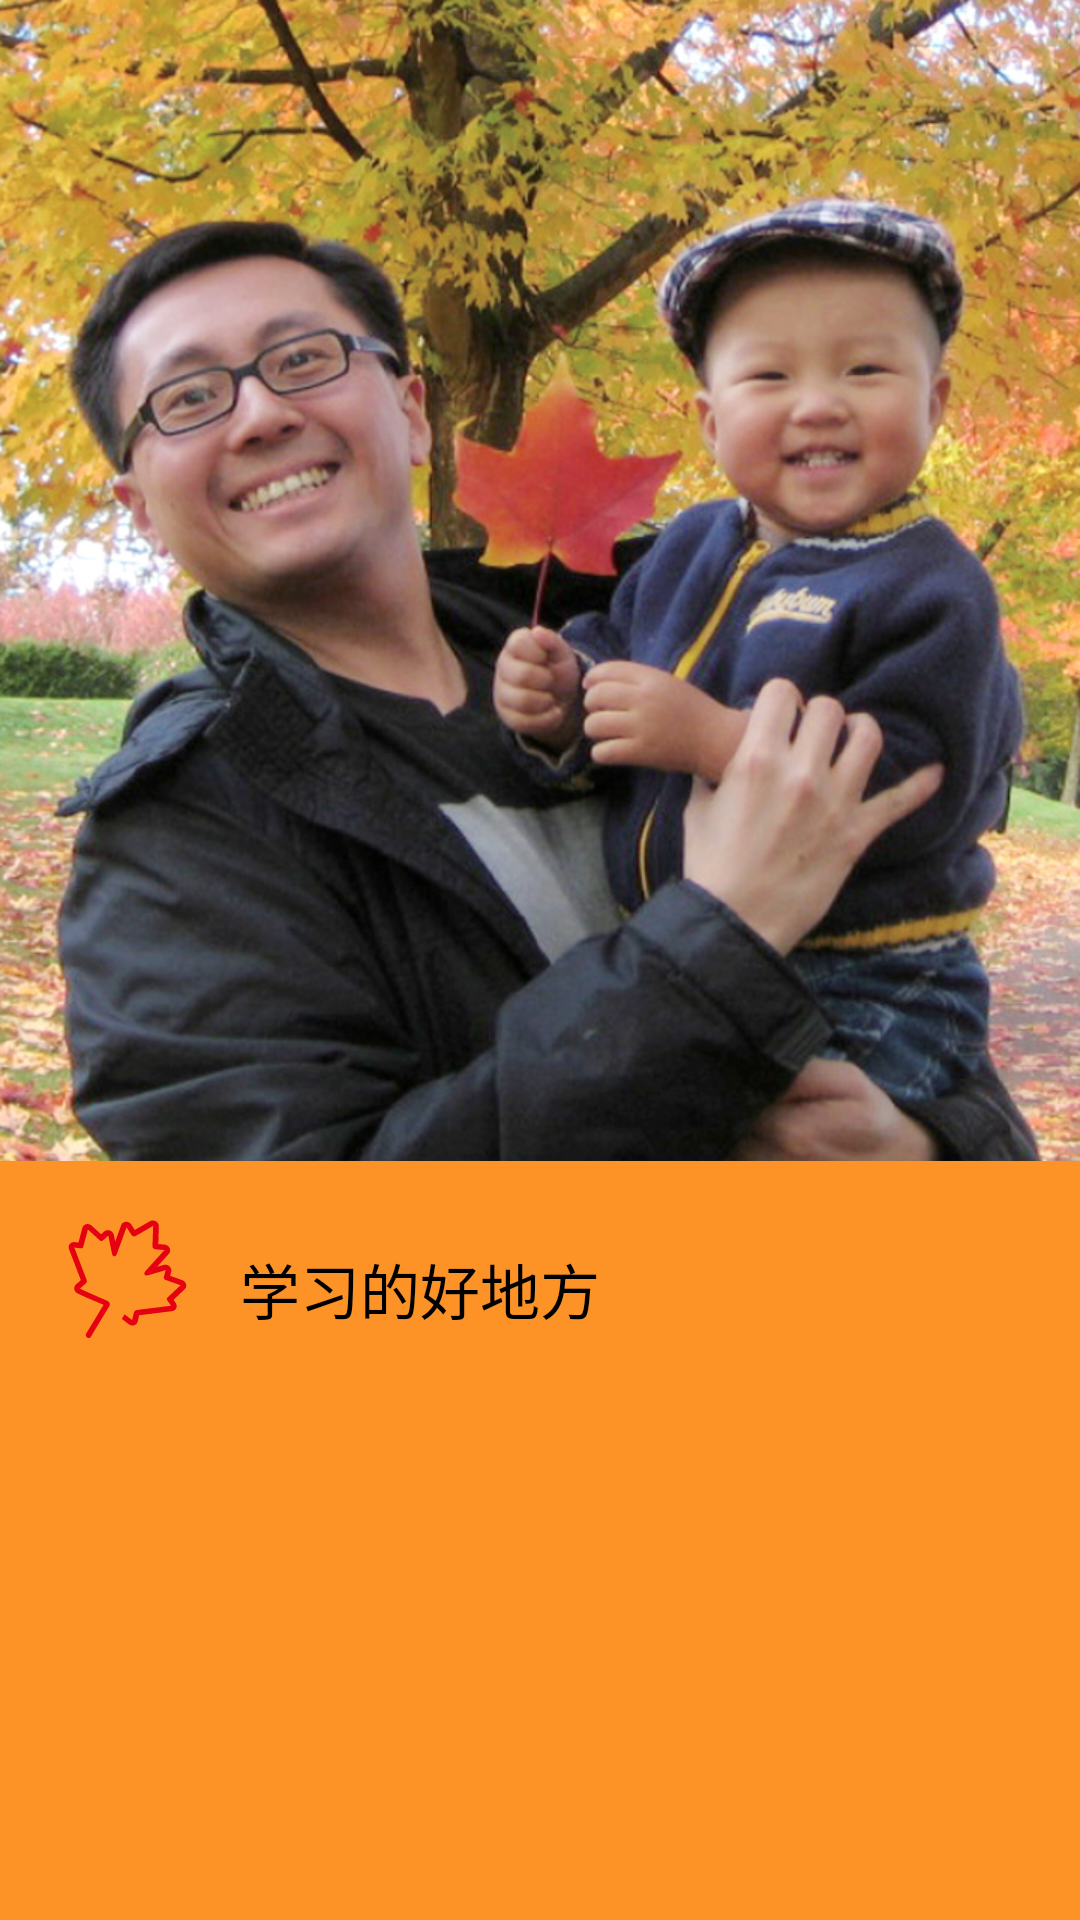

Screen size 1080 x 1920. Icon name, then its center in pixels as (x=x, y=y):
leaf: (x=127, y=1279)
